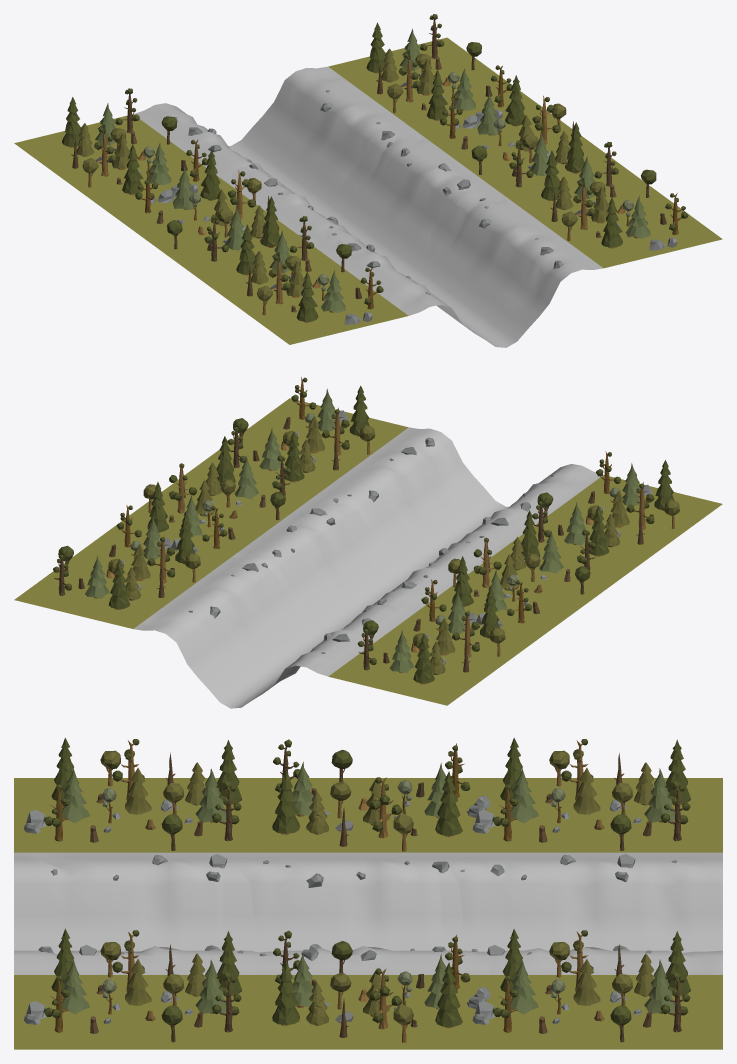
Rendered from canoeTerrainPost.gltf.
The picture shows the model from 3 angles, top to bottom: view 1: azimuth 30°, elevation 25°; view 2: azimuth 150°, elevation 25°; view 3: azimuth 270°, elevation 25°; orthographic projection. The views are drawn at different scales.
Parts seen in each view (by area): view 1: canoeTerrainPost; view 2: canoeTerrainPost; view 3: canoeTerrainPost.
Boxes of the visible parts, x1,y1,x2,y2 form: canoeTerrainPost: (14, 14, 722, 347); canoeTerrainPost: (14, 377, 722, 708); canoeTerrainPost: (14, 737, 722, 1049).
Size of the model in its own units: 157 by 36.69 by 174.
